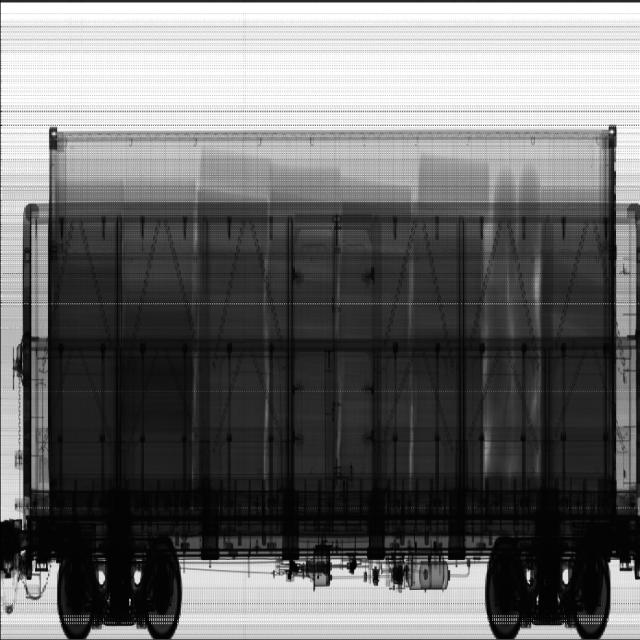fabrics: (265, 167, 341, 502), (487, 167, 542, 493)
